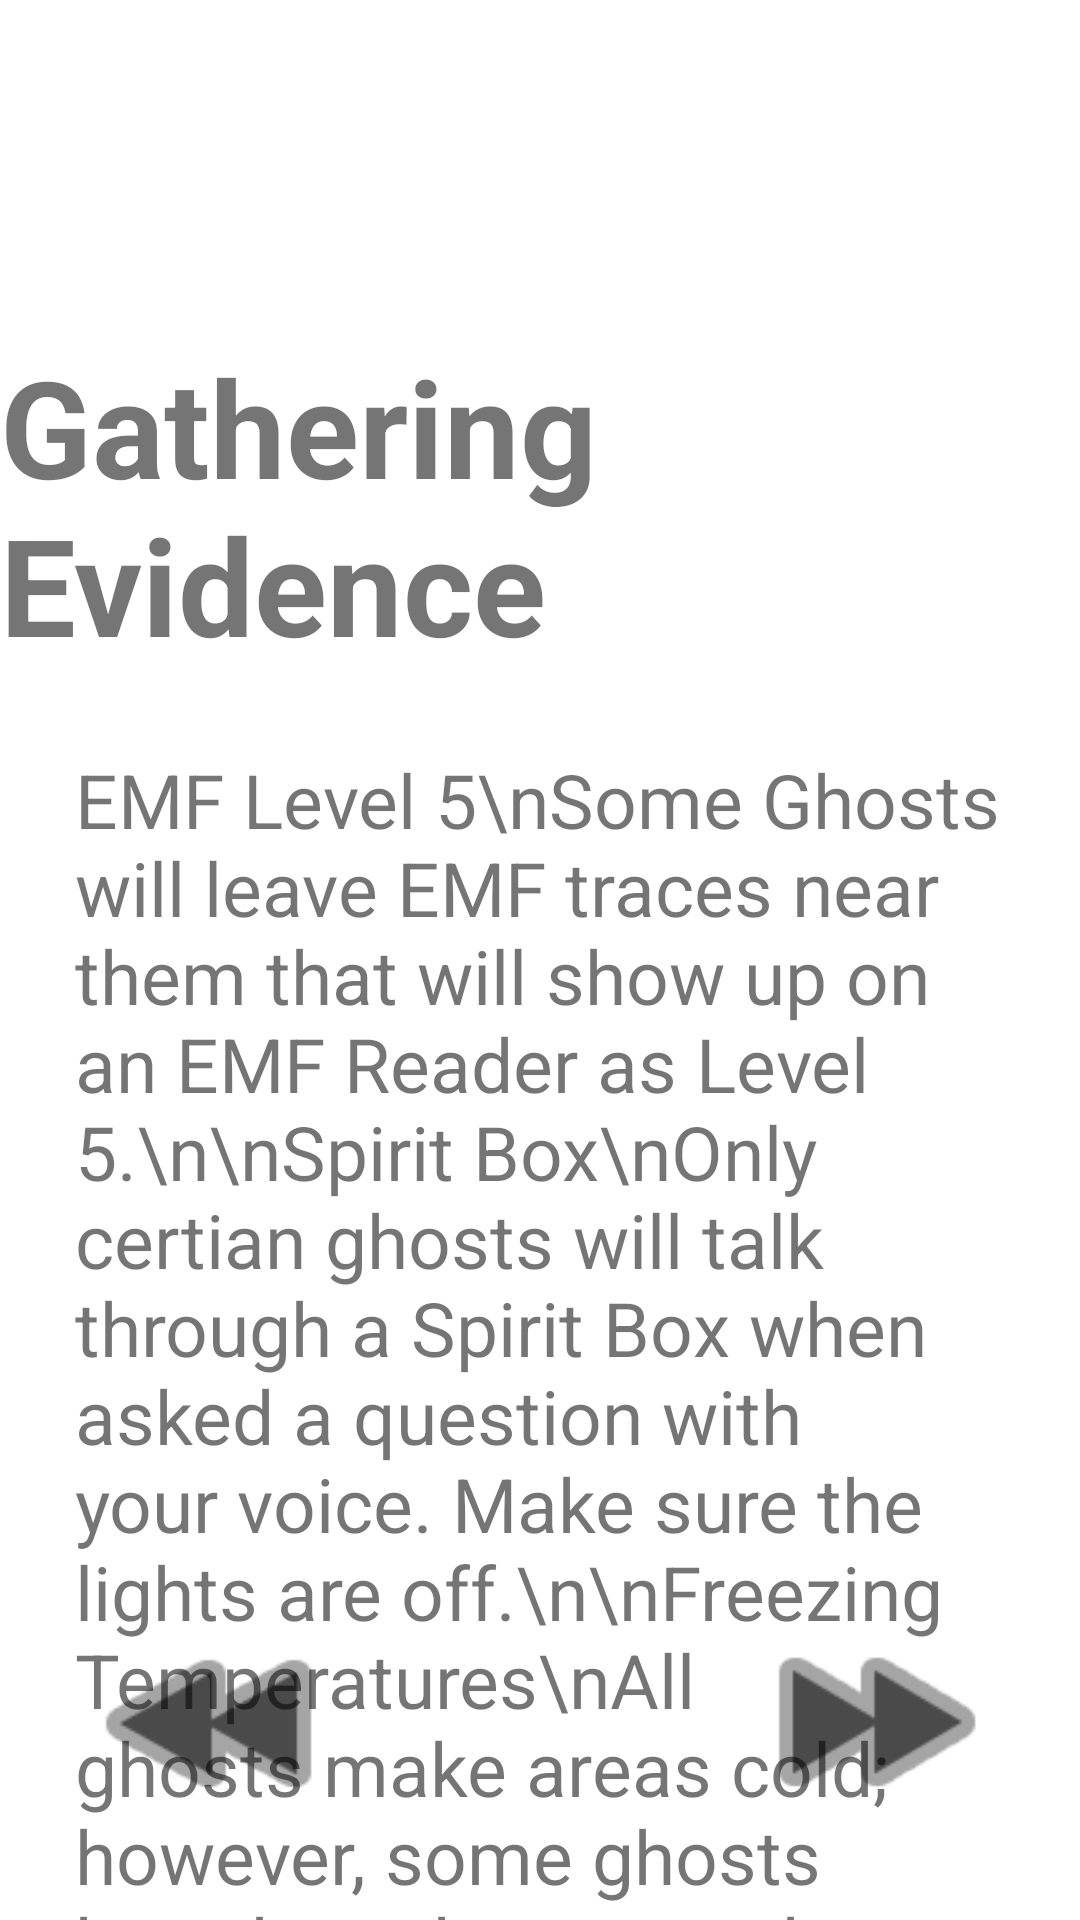

Point at icon controls on the screen. Image size 1080 × 1920, points as (x=x, y=y).
rew: (x=203, y=1734)
